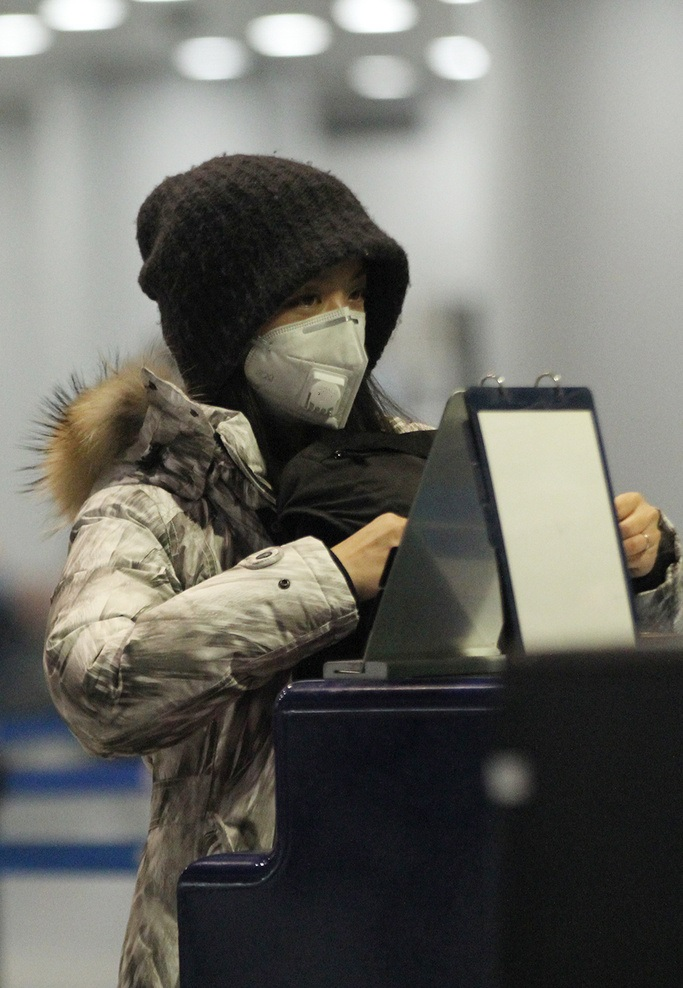face_mask: (250, 215, 368, 438)
